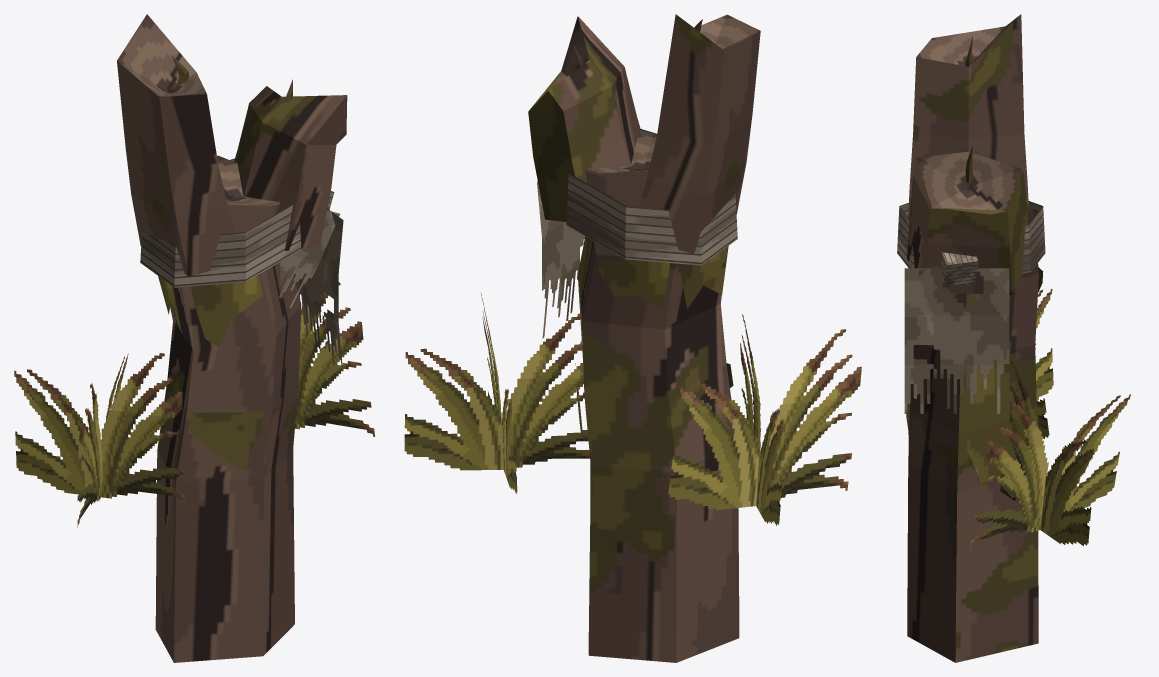
The model's file is SM_SW15_StakeRag.fbx.
3 views of the same model, side by side, from view 1: azimuth 30°, elevation 25°; view 2: azimuth 150°, elevation 25°; view 3: azimuth 270°, elevation 25° (orthographic). The views are drawn at different scales.
Parts seen in each view (by area): view 1: SW15c_Bark, SW15c_Plants, SW15c_Props, SW15c_Moss; view 2: SW15c_Bark, SW15c_Plants, SW15c_Props, SW15c_Moss; view 3: SW15c_Bark, SW15c_Plants, SW15c_Props, SW15c_Moss.
Part boxes in pixels (x1,y1,x2,y2): SW15c_Bark: (117, 55, 347, 662); SW15c_Plants: (14, 208, 374, 527); SW15c_Props: (117, 14, 334, 287); SW15c_Moss: (158, 276, 262, 470); SW15c_Bark: (528, 14, 760, 662); SW15c_Plants: (404, 181, 861, 525); SW15c_Props: (554, 14, 760, 265); SW15c_Moss: (575, 246, 733, 437); SW15c_Bark: (907, 14, 1038, 662); SW15c_Plants: (904, 266, 1130, 548); SW15c_Props: (897, 14, 1045, 287); SW15c_Moss: (906, 267, 1043, 486).
Bounding box in the file's own units: 0.8044 × 1.38 × 0.5209.
